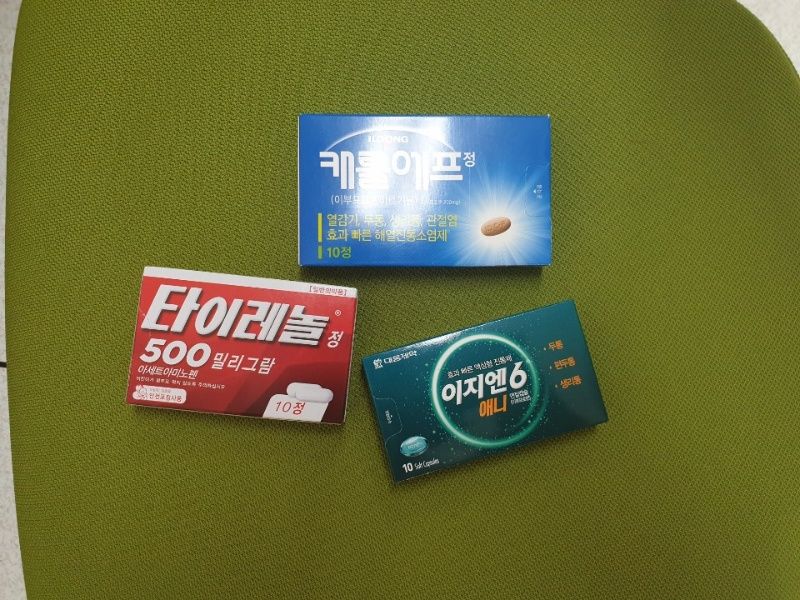carolF: (297, 113, 556, 274)
ezn: (365, 297, 609, 481)
tylenol: (127, 265, 355, 426)
